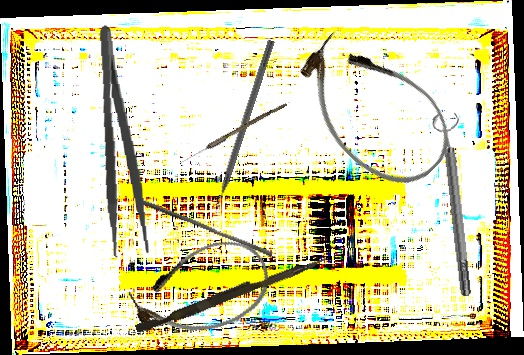Cannula: (279, 15, 469, 205), (121, 229, 281, 352)
Dressing Forceps: (94, 22, 151, 260)
Fixation Ring: (430, 111, 480, 298)
Hook Surgical: (210, 39, 275, 214)
Pusher: (134, 249, 328, 339), (140, 199, 275, 258)
Surgical Spoon: (179, 100, 288, 166)
